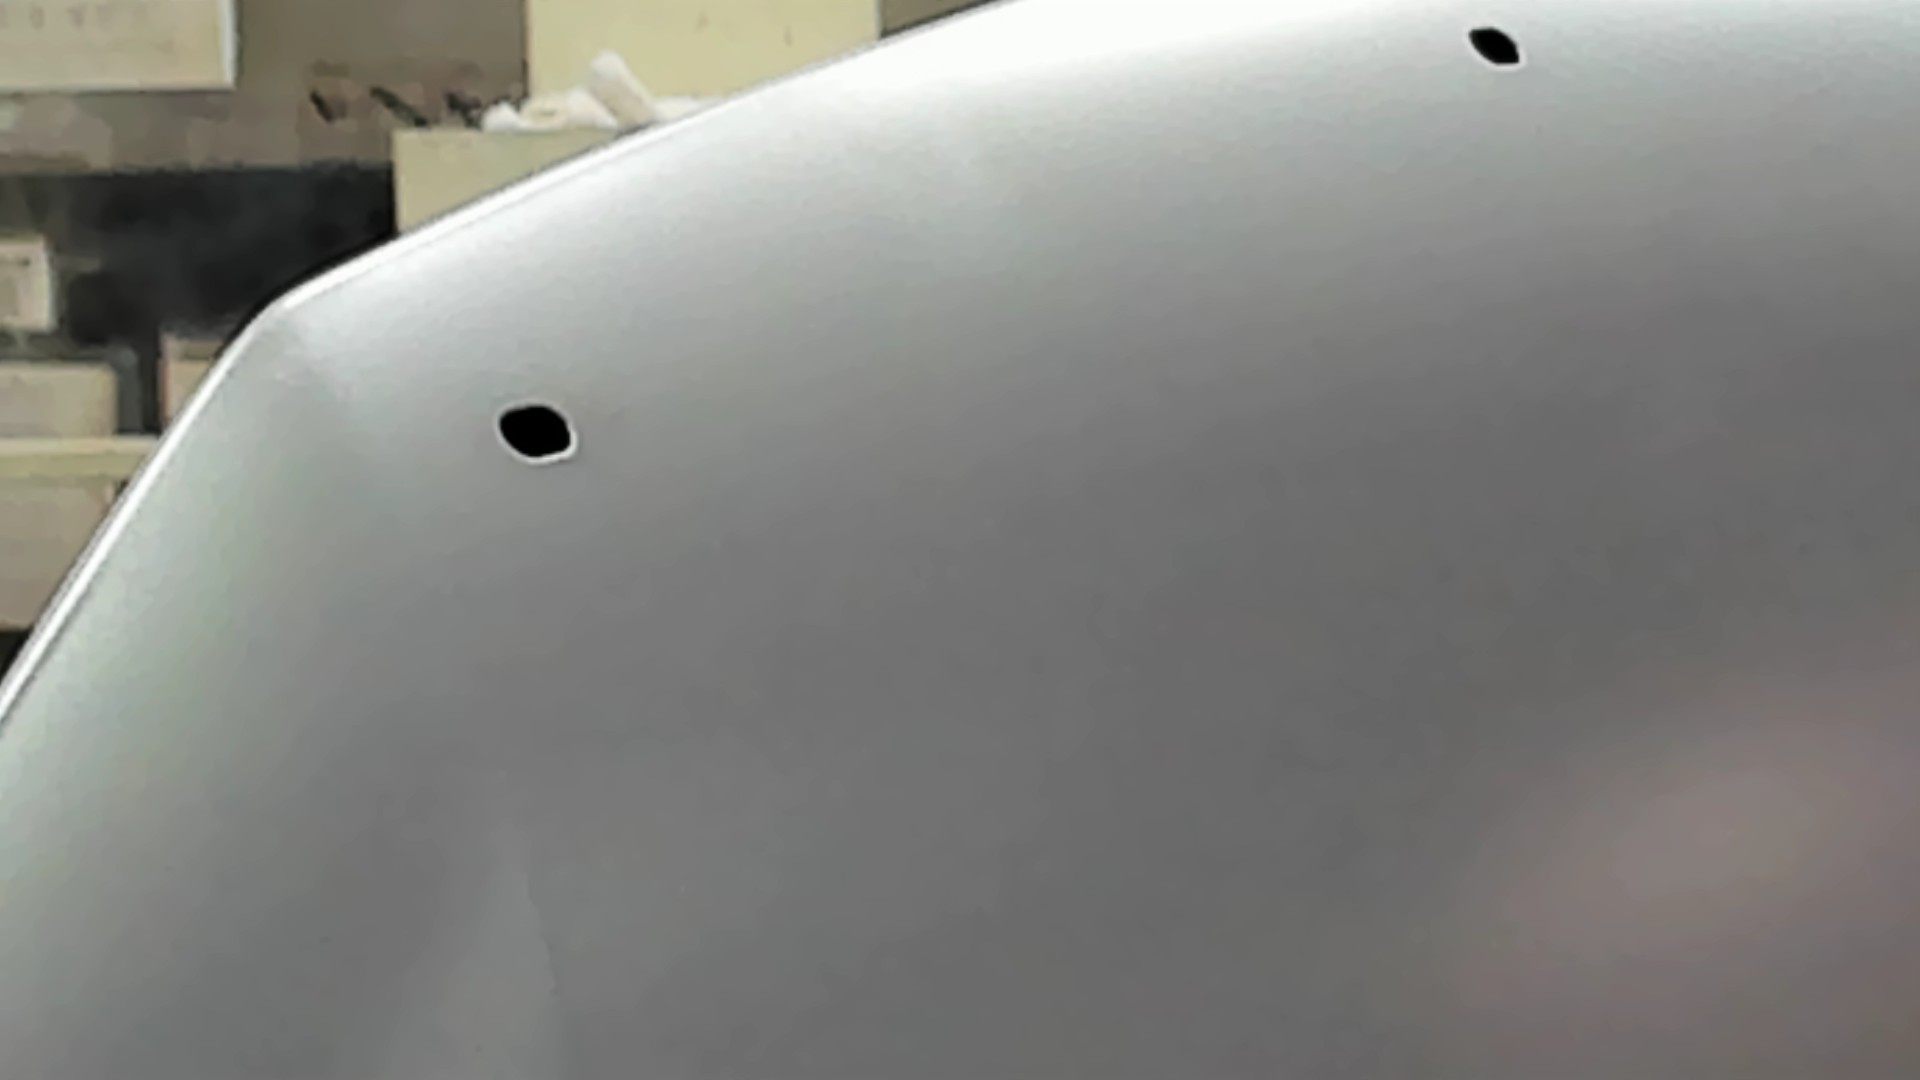amorfo: (493, 400, 580, 463), (1464, 24, 1530, 76)
